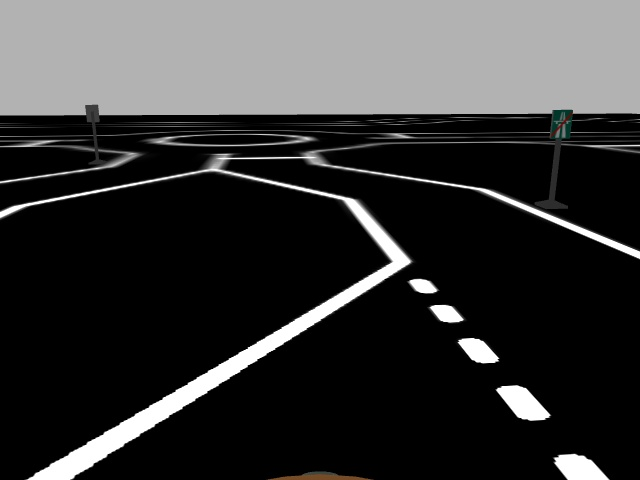leave_highway: (548, 109, 576, 139)
